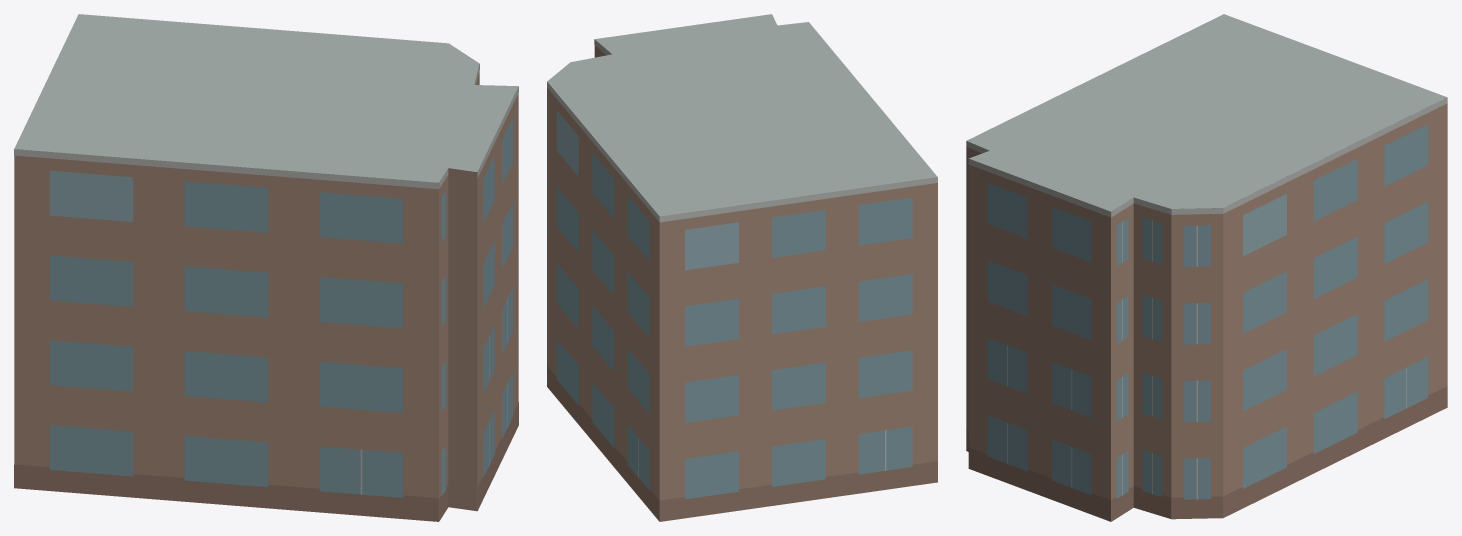
File: survey-upis-33007335.glb
The picture shows the model from 3 angles, left to right: view 1: azimuth 30°, elevation 25°; view 2: azimuth 150°, elevation 25°; view 3: azimuth 270°, elevation 25°; orthographic projection. The views are drawn at different scales.
Parts seen in each view (by area): view 1: survey-upis-33007335.tmp; view 2: survey-upis-33007335.tmp; view 3: survey-upis-33007335.tmp.
Boxes of the visible parts, x1,y1,x2,y2 form: survey-upis-33007335.tmp: [14, 14, 518, 521]; survey-upis-33007335.tmp: [547, 14, 937, 521]; survey-upis-33007335.tmp: [966, 14, 1447, 521].
Bounding box in the file's own units: 17.51 × 12.8 × 18.01.
